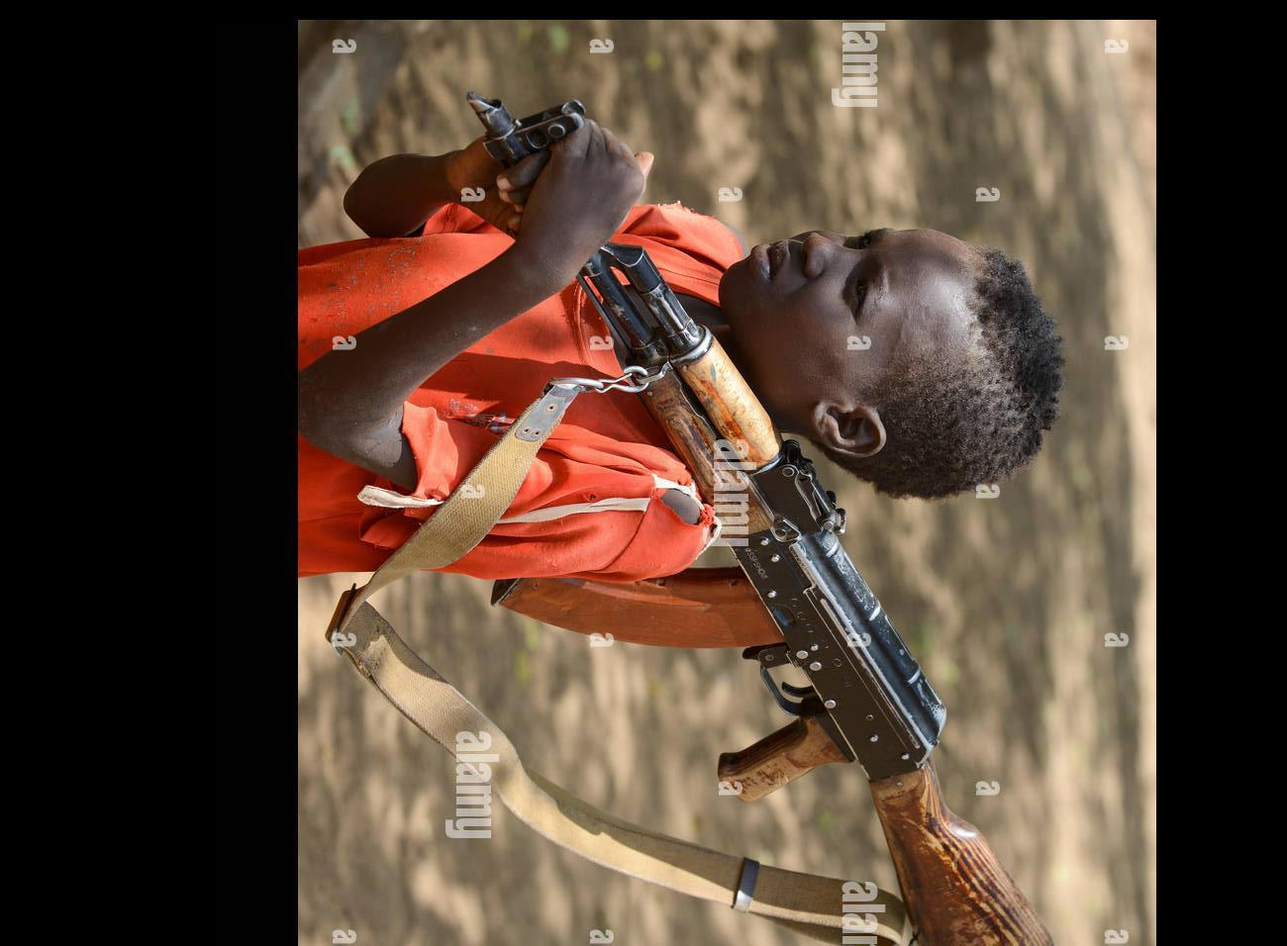larga: (464, 91, 1055, 946)
